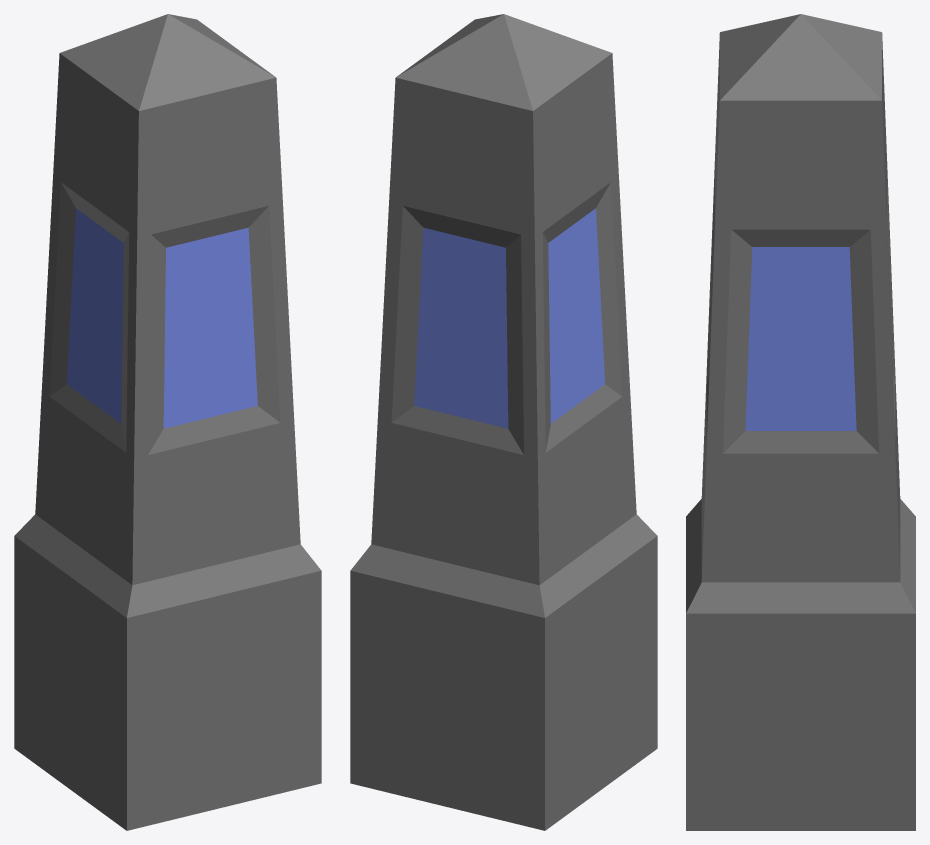
The model's file is SM_Grave_09.fbx.
3 renders of one model, left to right at view 1: azimuth 30°, elevation 25°; view 2: azimuth 150°, elevation 25°; view 3: azimuth 270°, elevation 25°, orthographic. The views are drawn at different scales.
Visible parts, largest first — view 1: Box008; view 2: Box008; view 3: Box008.
Boxes of the visible parts, x1,y1,x2,y2 form: Box008: (14,14,321,830); Box008: (350,14,657,830); Box008: (686,14,915,830).
Bounding box in the file's own units: 45 × 166 × 45.
